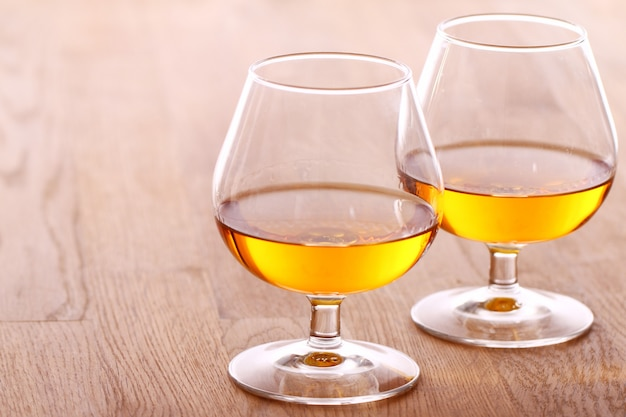alcohol: (214, 51, 446, 402), (394, 15, 620, 354)
